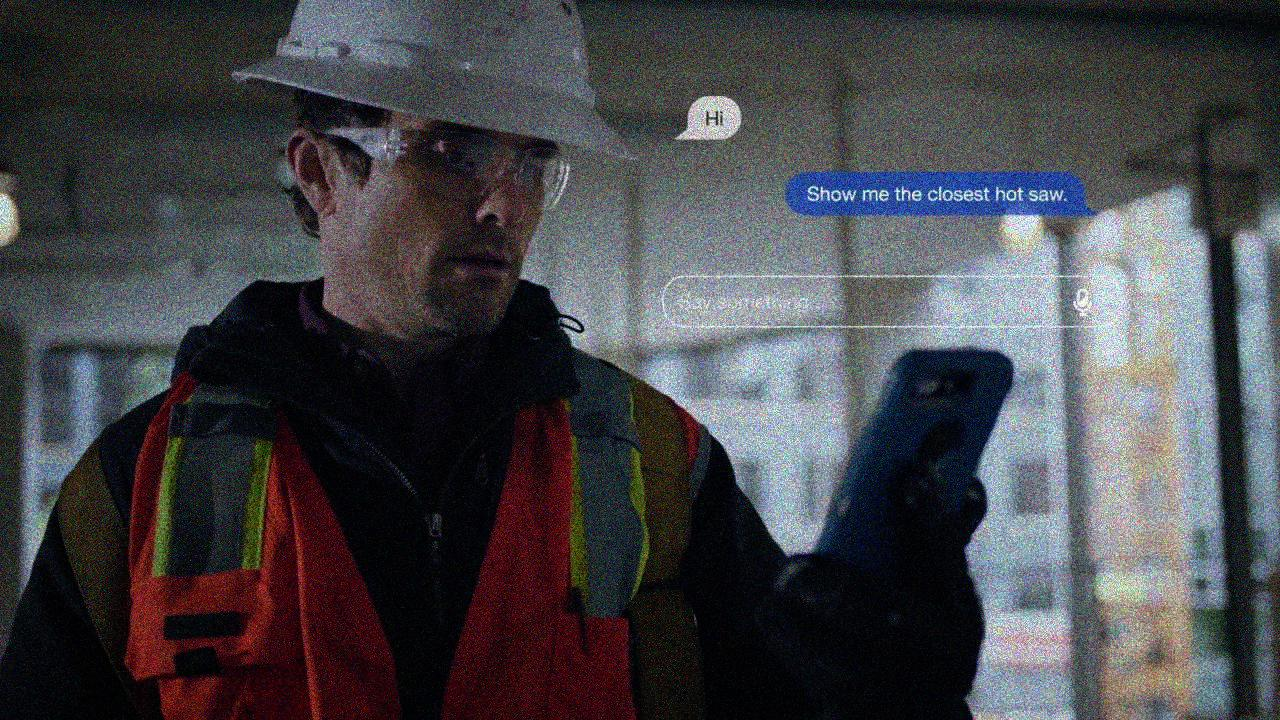helmet: (230, 1, 643, 342)
